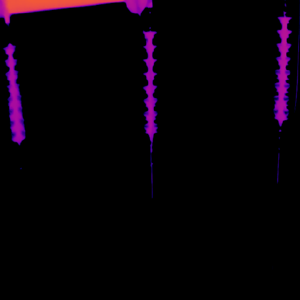insulator: (271, 13, 292, 122), (4, 41, 25, 144), (142, 28, 158, 139)
